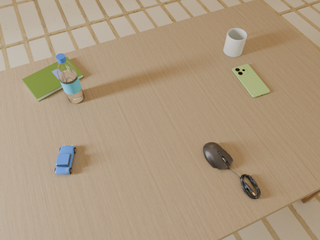book: (22, 57, 84, 102)
bottle: (56, 53, 84, 103)
cup: (224, 28, 247, 57)
mouse: (203, 142, 233, 169)
phone: (232, 64, 270, 98)
toy_car: (55, 145, 76, 174)
